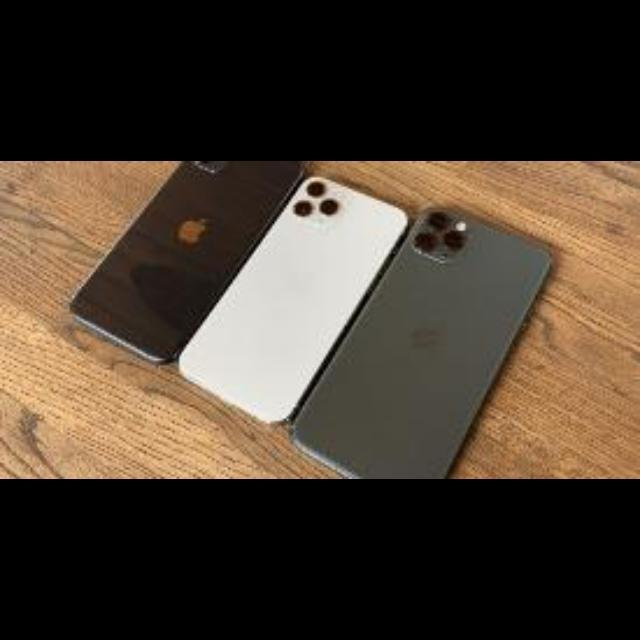Phone: (309, 196, 553, 479), (192, 168, 408, 424), (64, 161, 304, 379)
